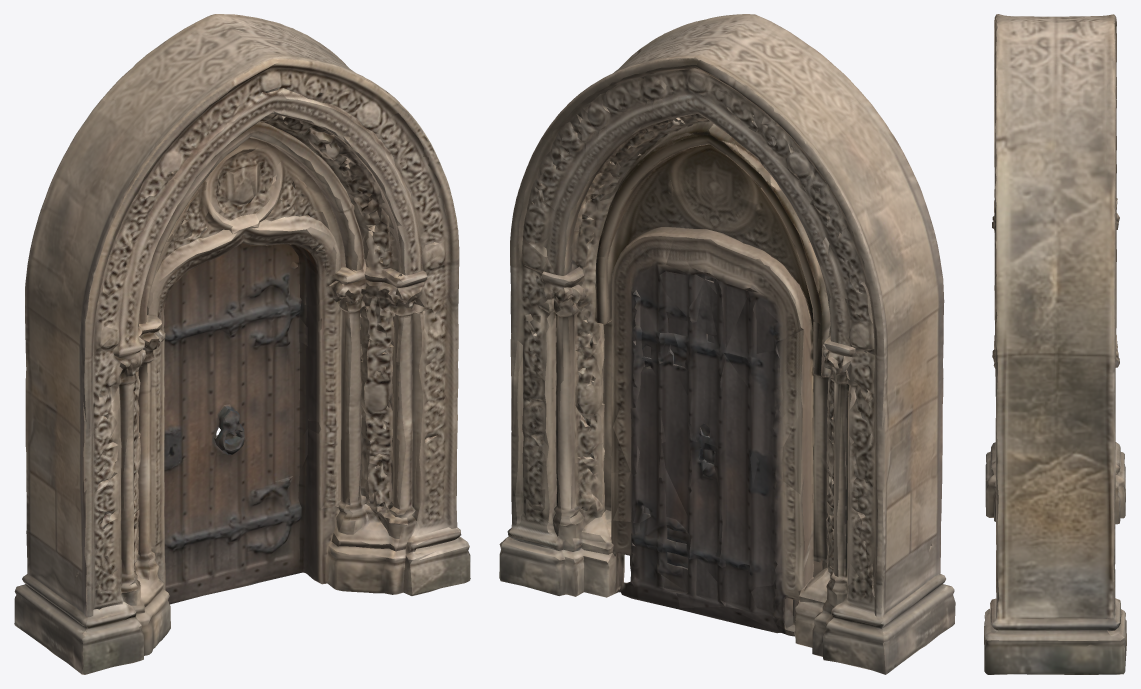
Rendered from archway-door.glb.
3 views of the same model, side by side, from view 1: azimuth 30°, elevation 25°; view 2: azimuth 150°, elevation 25°; view 3: azimuth 270°, elevation 25° (orthographic).
Visible parts, largest first — view 1: geometry_0; view 2: geometry_0; view 3: geometry_0.
Part boxes in pixels (x1,y1,x2,y2): geometry_0: (14,14,470,674); geometry_0: (499,14,955,674); geometry_0: (984,14,1126,674).
Bounding box in the file's own units: 2.3 × 3.2 × 0.7396.
1 material, 1 textured.
